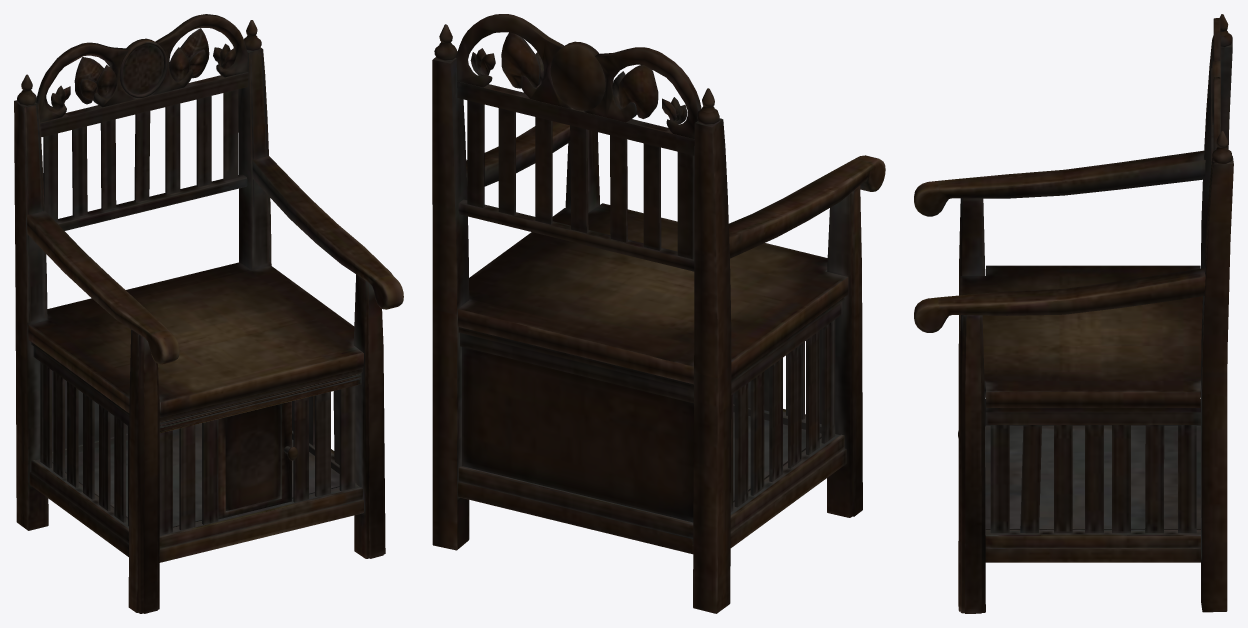
Rendered from silla-gallinera.glb.
3 views of the same model, side by side, from view 1: azimuth 30°, elevation 25°; view 2: azimuth 150°, elevation 25°; view 3: azimuth 270°, elevation 25° (orthographic). The views are drawn at different scales.
Visible parts, largest first — view 1: gallinera_chair; view 2: gallinera_chair; view 3: gallinera_chair.
Part boxes in pixels (left/top/right/bottom): gallinera_chair: left=14, top=14, right=403, bottom=613; gallinera_chair: left=432, top=14, right=885, bottom=613; gallinera_chair: left=914, top=14, right=1233, bottom=613.
Bounding box in the file's own units: 0.58 × 1.03 × 0.6034.
Materials: 1 (1 with a texture image).
